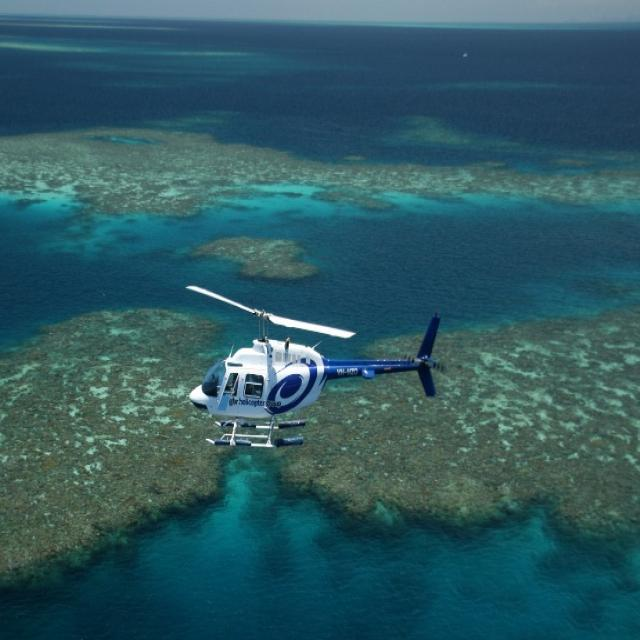helicopter: (183, 285, 443, 451)
